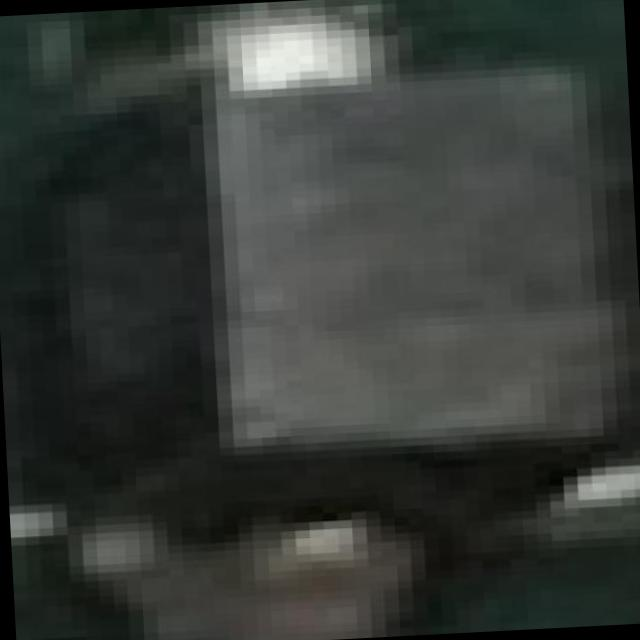diode: (32, 52, 624, 603)
